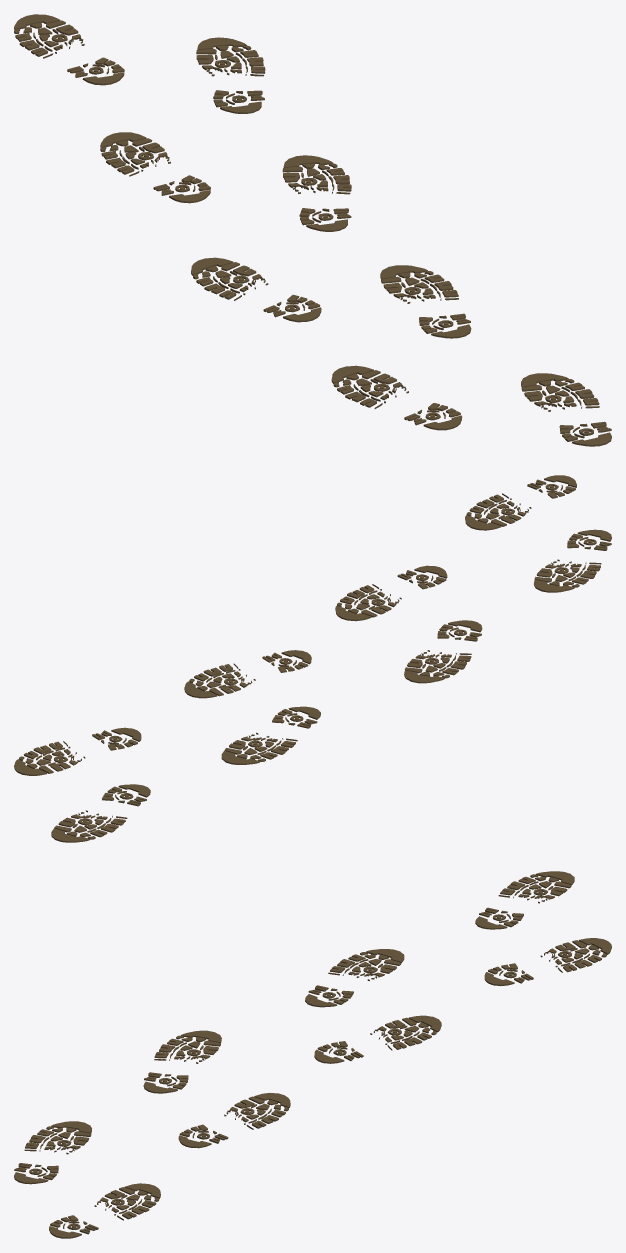
Rendered from DitySteps.fbx.
The picture shows the model from 3 angles, top to bottom: view 1: azimuth 30°, elevation 25°; view 2: azimuth 150°, elevation 25°; view 3: azimuth 330°, elevation 25°; orthographic projection. The views are drawn at different scales.
Visible parts, largest first — view 1: Plane.002; view 2: Plane.002; view 3: Plane.002.
Boxes of the visible parts, x1,y1,x2,y2 form: Plane.002: (14, 14, 611, 446); Plane.002: (14, 475, 611, 842); Plane.002: (14, 871, 611, 1238).
Size of the model in its own units: 176 by 0.9391 by 621.
